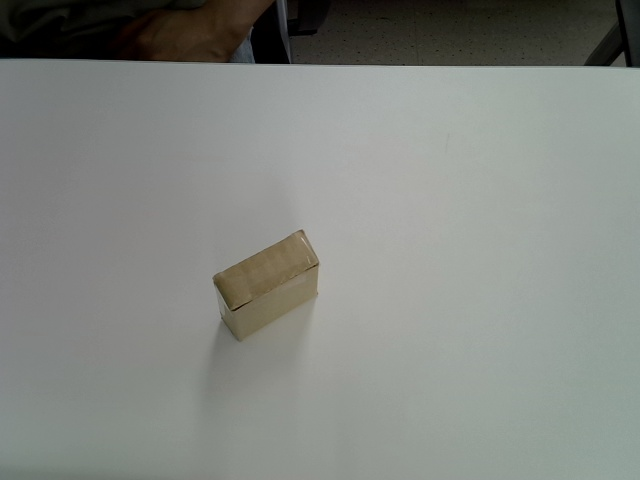normal: (213, 229, 321, 341)
